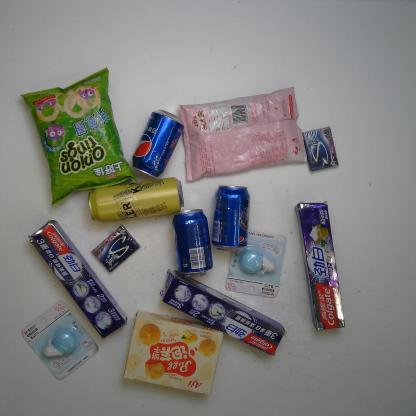Alcohol: (83, 175, 185, 226)
Dessert: (121, 309, 228, 397)
Drink: (126, 105, 189, 179), (208, 178, 256, 252), (168, 204, 216, 275)
Gum: (89, 220, 141, 272), (300, 124, 342, 176)
Personal Hygiene: (21, 220, 135, 340), (158, 272, 287, 360), (291, 198, 355, 340)
Puffed Food: (15, 68, 135, 209), (175, 86, 313, 184)
Stationery: (16, 298, 104, 386), (223, 228, 288, 304)
